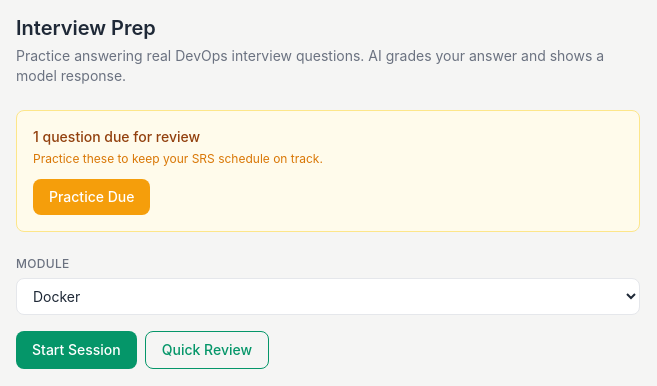
Test case: InterviewPrep › Practice Due button enters review session with question and textarea
Click the button "Practice Due" at (92, 197), box [33,179,150,215]
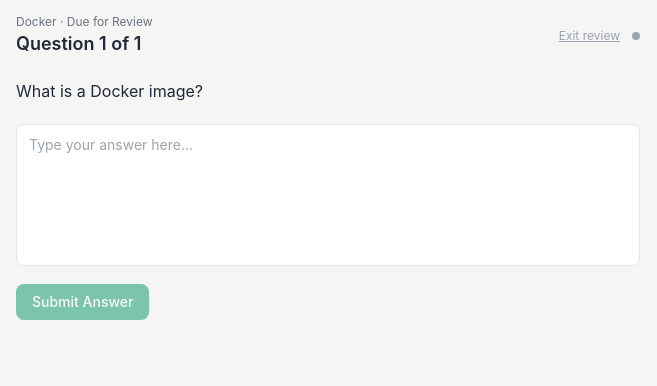
Now the text "What is a Docker image?" is shown, box [16,81,203,101]
Now the text box is shown, box [16,124,640,266]
Now the button "Submit Answer" is shown, box [16,284,150,320]
